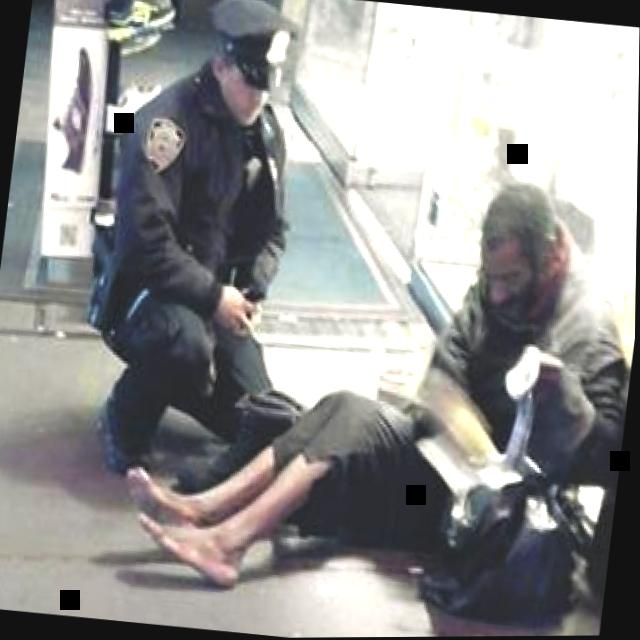Fall-Detected: (116, 137, 627, 635)
